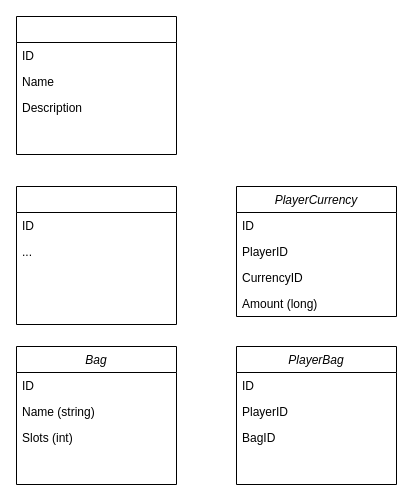
The diagram is 413 pixels wide and 501 high, and some of its shapes have lost their labels. The box of each missing label's shape, as (x1, y1, x2, y2) in pixels:
Currency: (16, 16, 176, 154)
Player: (16, 186, 176, 324)
